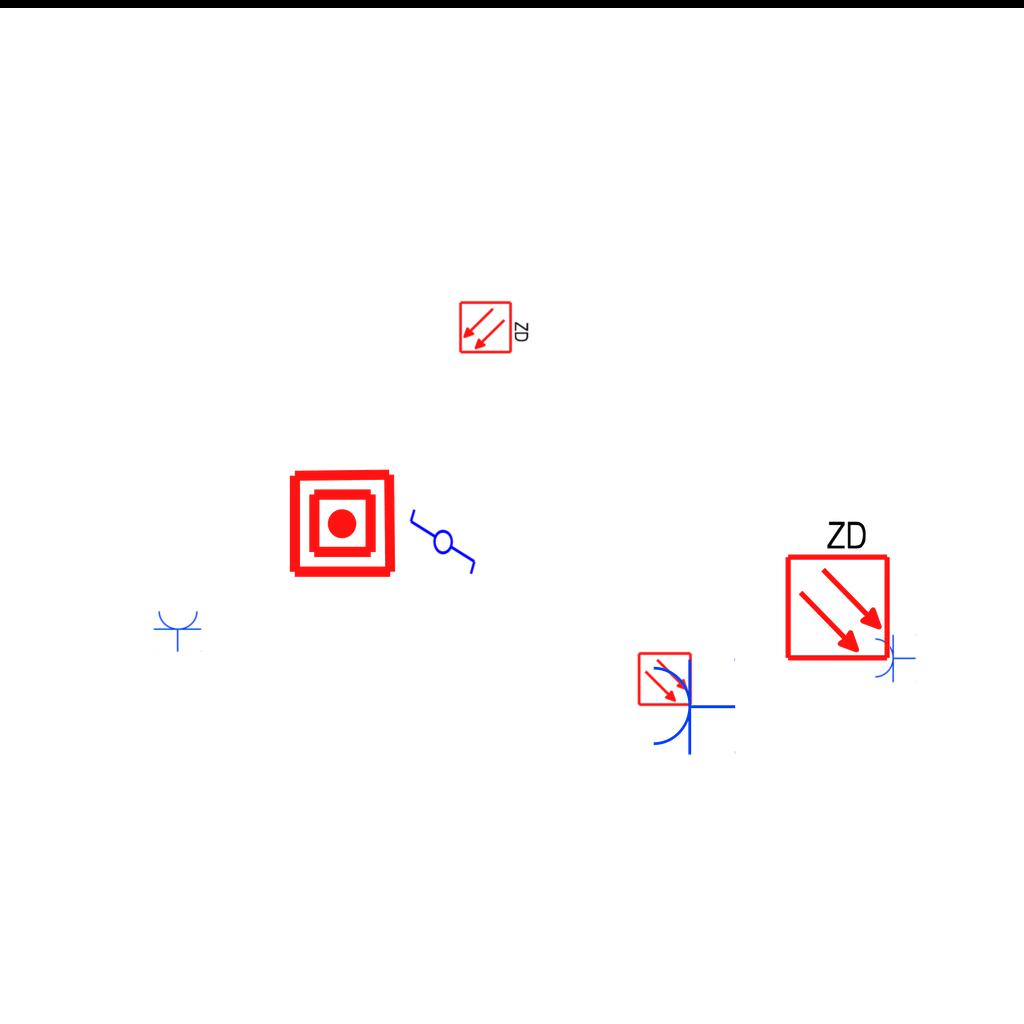NAM-Nichtautomatischer_Melder: (286, 467, 399, 580)
RMO_Rauchmelder_optischer: (637, 651, 693, 707)
Schukosteckdose_einfach: (649, 656, 736, 756), (873, 633, 916, 683), (153, 609, 203, 652)
Wechselschalter: (406, 507, 478, 585)
ZD_Melder_in_Zwischendecke_mit_Revisionsoeffnung_mind_40_x_40_cm: (779, 514, 893, 663), (458, 298, 532, 355)
